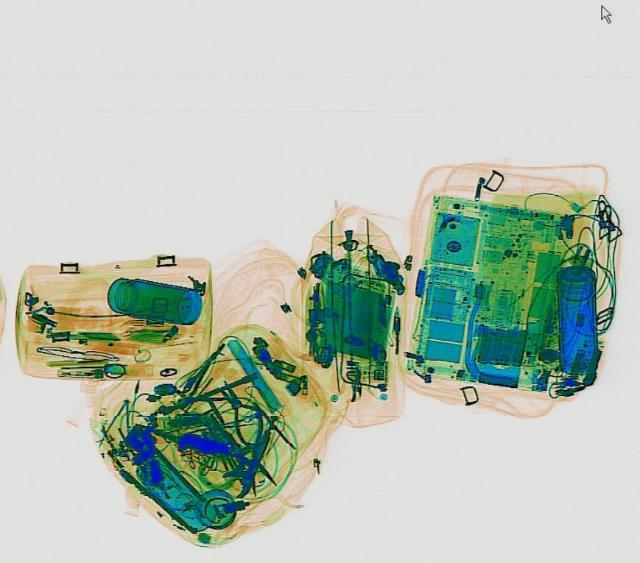Pliers: (203, 398, 294, 500), (201, 373, 279, 447)
